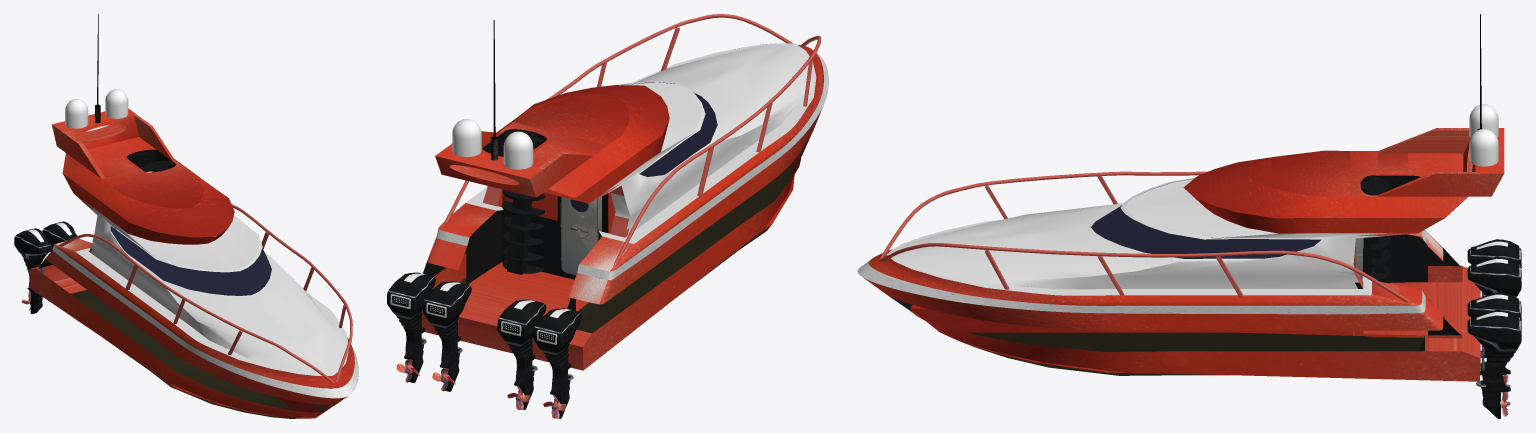
The model's file is sport-yacht.glb.
3 renders of one model, left to right at view 1: azimuth 30°, elevation 25°; view 2: azimuth 150°, elevation 25°; view 3: azimuth 270°, elevation 25°, orthographic. The views are drawn at different scales.
Parts seen in each view (by area): view 1: Object_8, Object_7, Object_6, Object_5, Object_21, Object_12; view 2: Object_8, Object_7, Object_21, Object_6, Object_12, Object_4, Object_5, Object_19, Object_15, Object_2; view 3: Object_8, Object_7, Object_21, Object_6, Object_5, Object_12, Object_15.
Boxes of the visible parts, box(x1,y1,x2,y2) form: Object_8: box(29, 108, 358, 418); Object_7: box(52, 203, 358, 398); Object_6: box(71, 290, 329, 418); Object_5: box(110, 226, 271, 295); Object_21: box(14, 149, 343, 407); Object_12: box(28, 89, 128, 242); Object_8: box(421, 14, 823, 370); Object_7: box(436, 43, 828, 279); Object_21: box(387, 107, 816, 418); Object_6: box(459, 144, 792, 333); Object_12: box(390, 119, 570, 344); Object_4: box(560, 197, 601, 275); Object_5: box(622, 82, 717, 176); Object_19: box(396, 359, 566, 418); Object_15: box(388, 277, 580, 408); Object_2: box(491, 20, 498, 160); Object_8: box(863, 128, 1504, 381); Object_7: box(857, 177, 1425, 314); Object_21: box(887, 175, 1521, 418); Object_6: box(960, 295, 1424, 375); Object_5: box(1091, 178, 1321, 258); Object_12: box(1469, 104, 1521, 333); Object_15: box(1470, 247, 1519, 405).
Bounding box in the file's own units: 3.5 × 6.95 × 11.36.
Materials: 11 (9 with a texture image).
